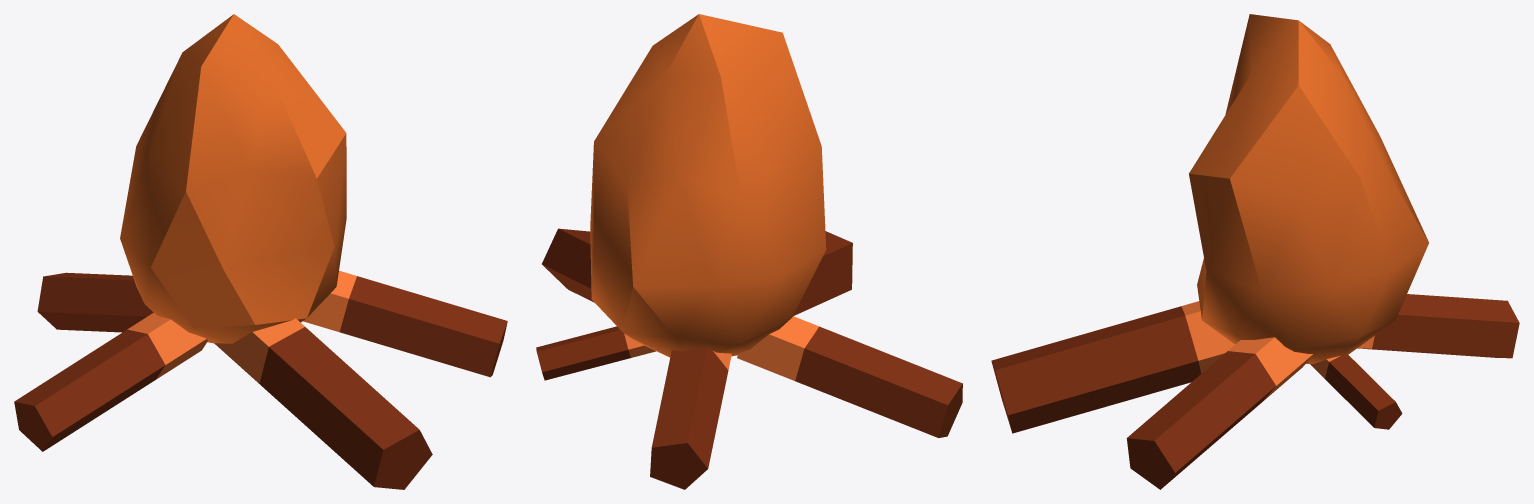
The model's file is Fire01.fbx.
The picture shows the model from 3 angles, left to right: view 1: azimuth 30°, elevation 25°; view 2: azimuth 150°, elevation 25°; view 3: azimuth 270°, elevation 25°; orthographic projection. The views are drawn at different scales.
Parts seen in each view (by area): view 1: Fire, FireLogs; view 2: Fire, FireLogs; view 3: Fire, FireLogs.
Boxes of the visible parts, bbox=[...] form: Fire: bbox=[120, 14, 346, 343]; FireLogs: bbox=[14, 270, 507, 489]; Fire: bbox=[590, 14, 826, 357]; FireLogs: bbox=[536, 228, 962, 489]; Fire: bbox=[1189, 14, 1428, 363]; FireLogs: bbox=[991, 294, 1519, 489].
Bounding box in the file's own units: 242 × 201 × 243.
